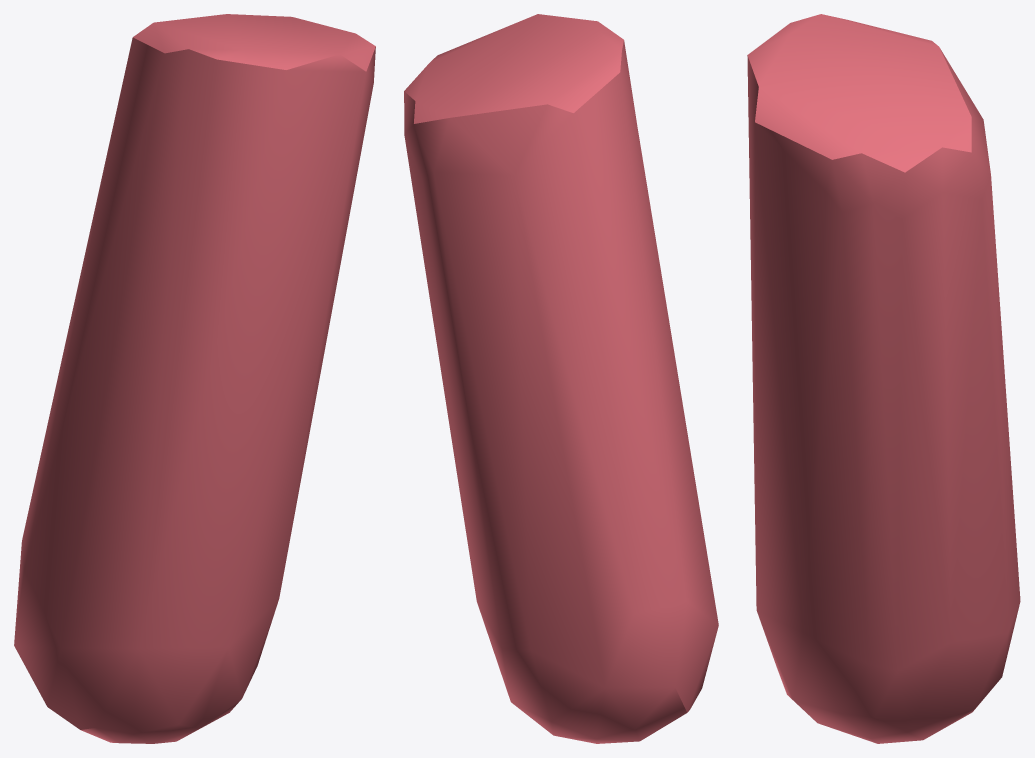
The model's file is fma4084_fj2255.glb.
The picture shows the model from 3 angles, left to right: view 1: azimuth 30°, elevation 25°; view 2: azimuth 150°, elevation 25°; view 3: azimuth 270°, elevation 25°; orthographic projection. The views are drawn at different scales.
Visible parts, largest first — view 1: FMA4084_FJ2255; view 2: FMA4084_FJ2255; view 3: FMA4084_FJ2255.
Boxes of the visible parts, <box> form: FMA4084_FJ2255: <box>14,14,375,743</box>; FMA4084_FJ2255: <box>404,14,718,743</box>; FMA4084_FJ2255: <box>747,14,1020,743</box>.
Size of the model in its own units: 0.00263 by 0.00572 by 0.00195.
